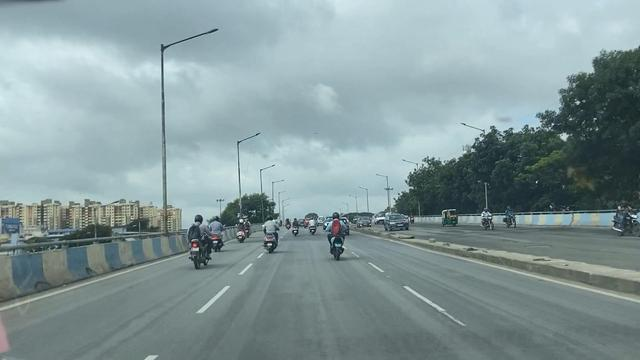LMV: (187, 209, 208, 266), (326, 211, 346, 263), (260, 213, 278, 251), (235, 213, 252, 244), (214, 213, 224, 250), (307, 215, 317, 233), (291, 217, 300, 235)
